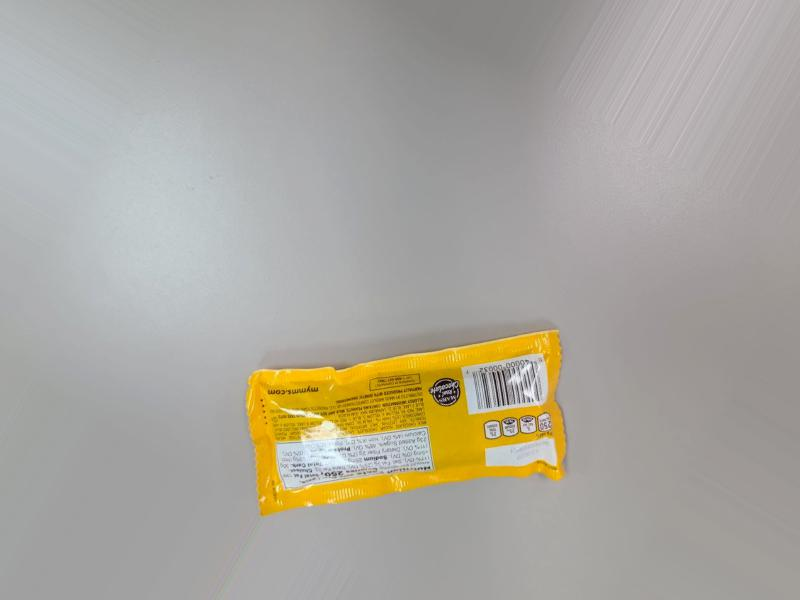m&m: (253, 330, 565, 515)
